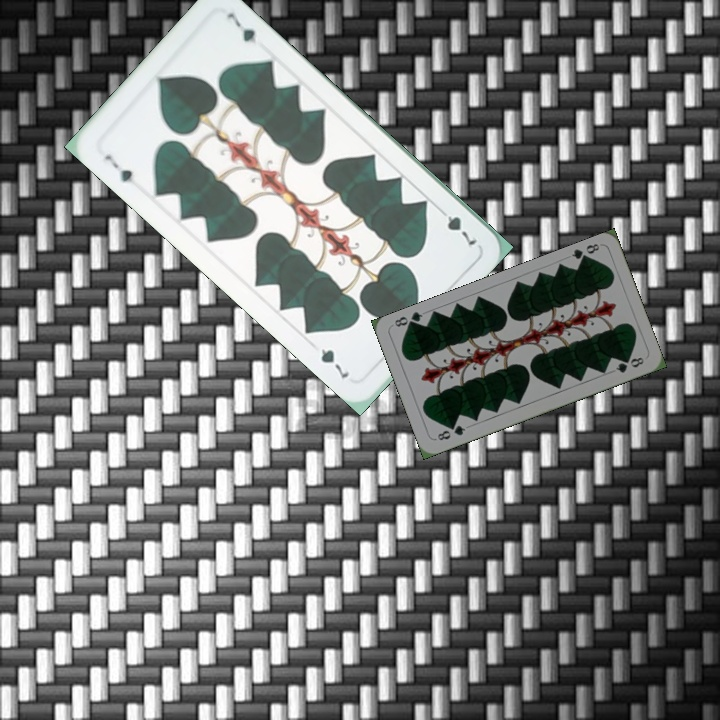G7: (434, 203, 480, 248), (100, 151, 136, 185)
G8: (568, 239, 602, 265), (433, 421, 468, 443)
